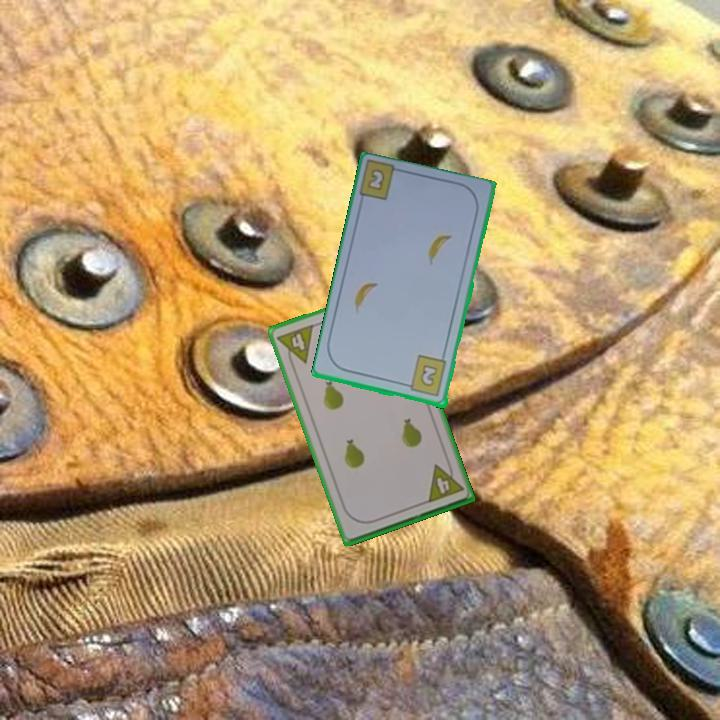2b: (401, 352, 449, 400), (366, 167, 386, 191)
4p: (273, 321, 317, 370), (423, 457, 466, 506)
